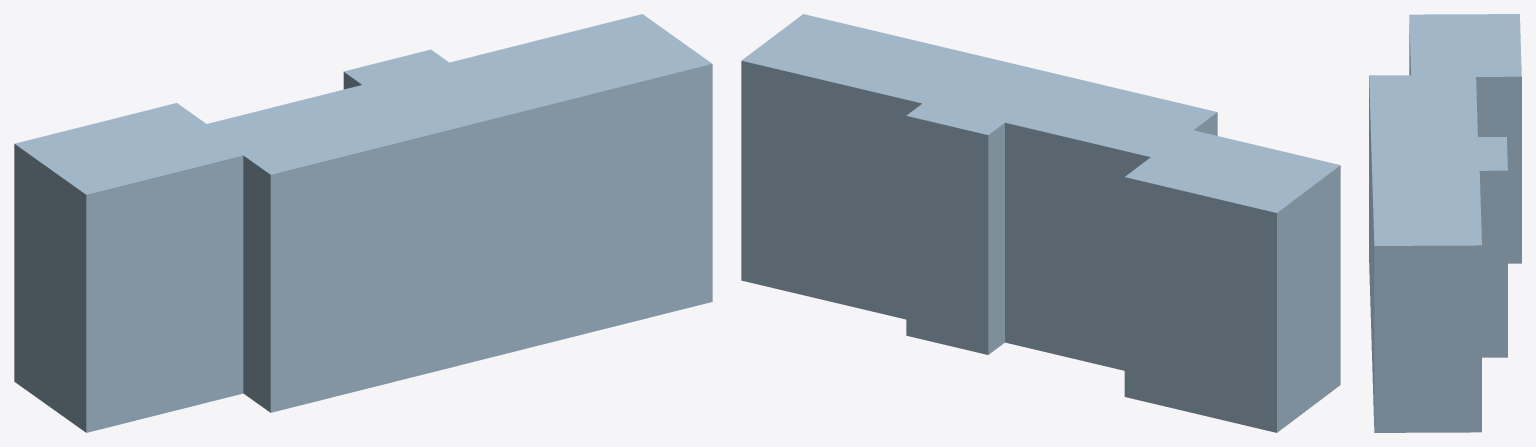
File: osm_way_223859790.glb
3 renders of one model, left to right at view 1: azimuth 30°, elevation 25°; view 2: azimuth 150°, elevation 25°; view 3: azimuth 270°, elevation 25°, orthographic. The views are drawn at different scales.
Visible parts, largest first — view 1: osm_way_223859790; view 2: osm_way_223859790; view 3: osm_way_223859790.
Part boxes in pixels (left/top/right/bottom): osm_way_223859790: left=14, top=14, right=712, bottom=432; osm_way_223859790: left=741, top=14, right=1340, bottom=432; osm_way_223859790: left=1369, top=14, right=1521, bottom=432.
Bounding box in the file's own units: 51.1 × 19.2 × 14.21.
